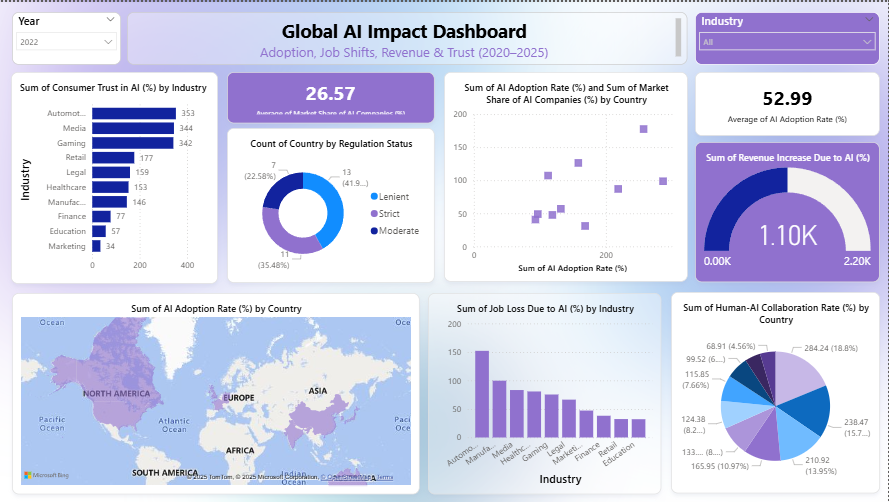

The dashboard page shown, as its layout file describes it:
{"tool":"powerbi","page":{"name":"Page 1","canvas":[1280,720],"ordinal":0},"visuals":[{"type":"filledMap","fields":{"Category":["Sheet1.Country"]},"box":[16.6,418.4,587.2,290],"z":0},{"type":"columnChart","fields":{"Category":["Sheet1.Industry"],"Y":["Sum(Sheet1.Job Loss Due to AI (%))"]},"box":[616.9,418.4,336.4,290],"z":1000},{"type":"pieChart","fields":{"Category":["Sheet1.Country"],"Y":["Sum(Sheet1.Human-AI Collaboration Rate (%))"]},"box":[966,418.2,300.8,289.8],"z":2000},{"type":"clusteredBarChart","fields":{"Category":["Sheet1.Industry"],"Y":["Sum(Sheet1.Consumer Trust in AI (%))"]},"box":[16.3,101.2,297.7,304.7],"z":3000},{"type":"donutChart","fields":{"Category":["Sheet1.Regulation Status"],"Y":["CountNonNull(Sheet1.Country)"]},"box":[326.7,181.4,298.8,223.3],"z":4000},{"type":"scatterChart","fields":{"Category":["Sheet1.Country"],"X":["Sum(Sheet1.AI Adoption Rate (%))"],"Y":["Sum(Sheet1.Market Share of AI Companies (%))"]},"box":[639.5,101.2,351.2,302.3],"z":5000},{"type":"gauge","fields":{"Y":["Sum(Sheet1.Revenue Increase Due to AI (%))"]},"box":[1001.2,201.2,266.3,202.3],"z":6000},{"type":"card","fields":{"Values":["Avg(Sheet1.AI Adoption Rate (%))"]},"box":[1001.2,101.2,266.3,91.9],"z":7000},{"type":"card","fields":{"Values":["Avg(Sheet1.Market Share of AI Companies (%))"]},"box":[326.7,101.2,298.8,74.4],"z":8000},{"type":"slicer","fields":{"Values":["Sheet1.Industry"]},"box":[1000.9,14.3,266.3,76.1],"z":9000},{"type":"textbox","box":[183.1,14.3,807.1,76.1],"z":10000},{"type":"slicer","fields":{"Values":["Sheet1.Year"]},"box":[16.6,14.3,156.9,76.1],"z":11000}]}

Visuals, with their boxes in screenshot pixels (x1, y1, x2, y2), scaled from the page's 1280x720 canvas onto the 889x502 screenshot:
filledMap - Sheet1.Country: [x1=12, y1=292, x2=419, y2=494]
columnChart - Sheet1.Industry x Sum(Sheet1.Job Loss Due to AI (%)): [x1=428, y1=292, x2=662, y2=494]
pieChart - Sheet1.Country x Sum(Sheet1.Human-AI Collaboration Rate (%)): [x1=671, y1=292, x2=880, y2=494]
clusteredBarChart - Sheet1.Industry x Sum(Sheet1.Consumer Trust in AI (%)): [x1=11, y1=71, x2=218, y2=283]
donutChart - Sheet1.Regulation Status x CountNonNull(Sheet1.Country): [x1=227, y1=126, x2=434, y2=282]
scatterChart - Sheet1.Country x Sum(Sheet1.AI Adoption Rate (%)): [x1=444, y1=71, x2=688, y2=281]
gauge - Sum(Sheet1.Revenue Increase Due to AI (%)): [x1=695, y1=140, x2=880, y2=281]
card - Avg(Sheet1.AI Adoption Rate (%)): [x1=695, y1=71, x2=880, y2=135]
card - Avg(Sheet1.Market Share of AI Companies (%)): [x1=227, y1=71, x2=434, y2=122]
slicer - Sheet1.Industry: [x1=695, y1=10, x2=880, y2=63]
textbox: [x1=127, y1=10, x2=688, y2=63]
slicer - Sheet1.Year: [x1=12, y1=10, x2=121, y2=63]
